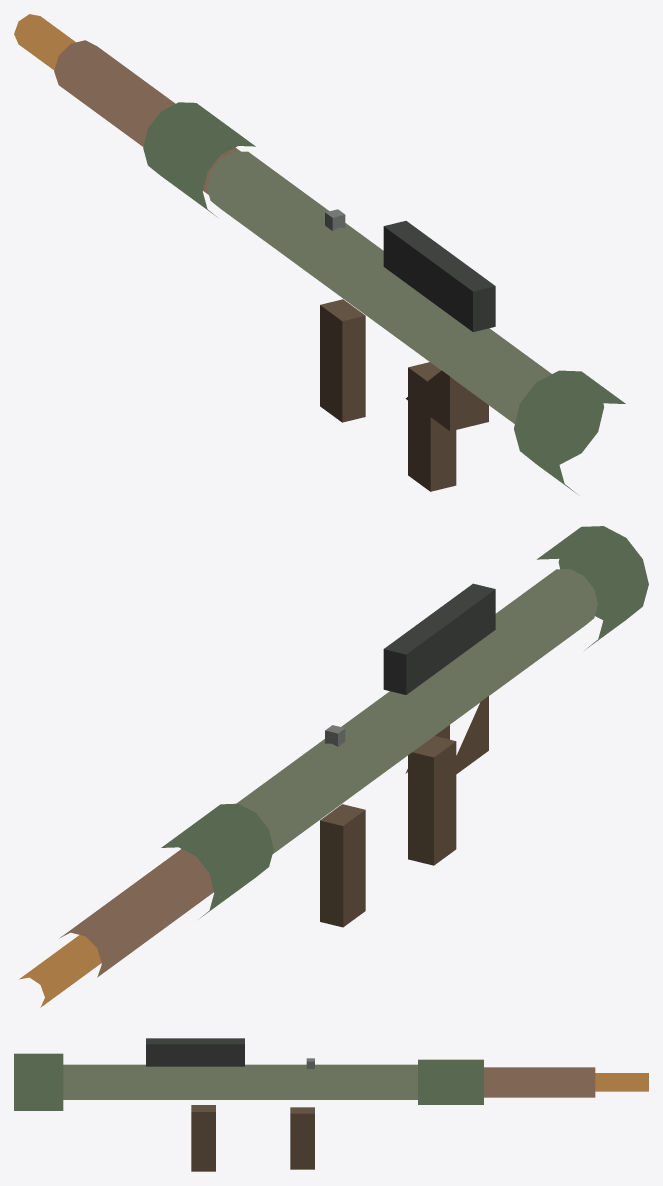
The model's file is w_rpg7.glb.
The picture shows the model from 3 angles, top to bottom: view 1: azimuth 30°, elevation 25°; view 2: azimuth 150°, elevation 25°; view 3: azimuth 270°, elevation 25°; orthographic projection. The views are drawn at different scales.
Parts seen in each view (by area): view 1: body; view 2: body; view 3: body.
Part boxes in pixels (box(x1,y1,x2,y2)): body: box(14, 14, 625, 494); body: box(19, 526, 648, 1007); body: box(14, 1038, 648, 1171).
Size of the model in its own units: 0.14 by 0.34 by 1.54.
